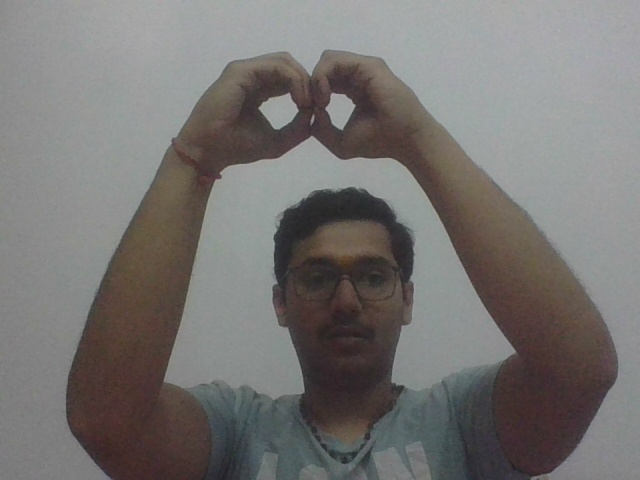B: (196, 43, 434, 176)
